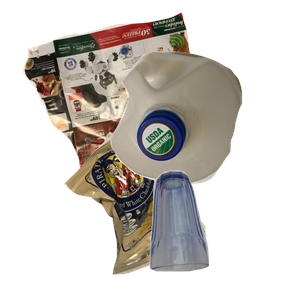glass: (147, 168, 300, 300)
paper: (20, 10, 231, 190)
plastic: (108, 49, 300, 226)
trash: (61, 127, 260, 300)
